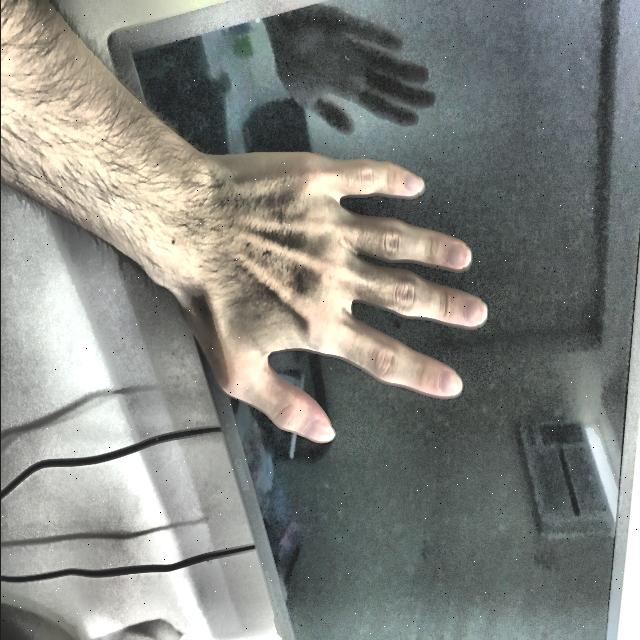not-gloved: (149, 138, 506, 454)
